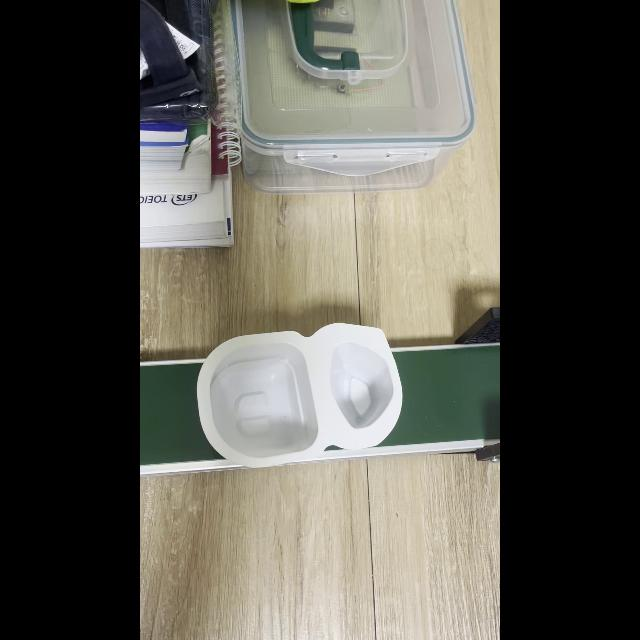clean: (198, 326, 402, 466)
